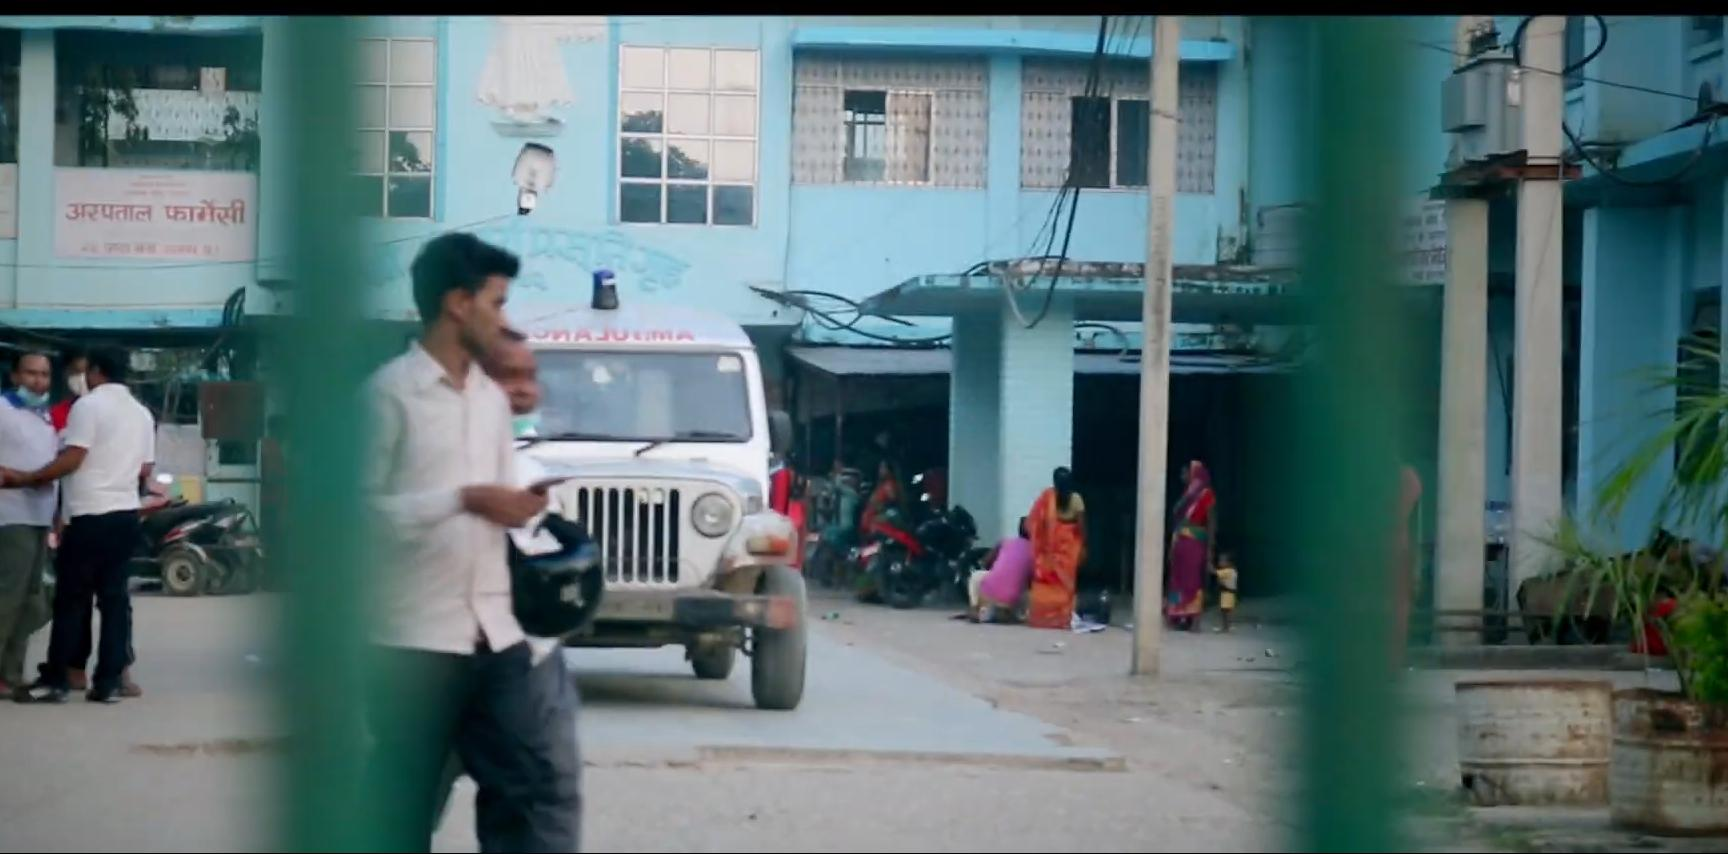ambulance: (478, 267, 823, 733)
